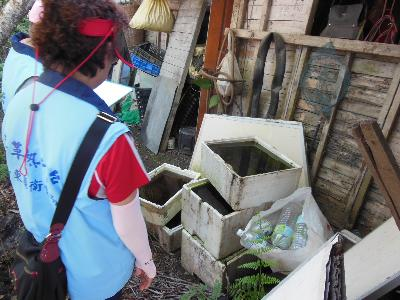bottle: (269, 204, 299, 252), (290, 202, 311, 253)
plastic_bag: (241, 185, 336, 275)
styrofoam: (200, 136, 303, 210), (182, 178, 273, 259), (179, 230, 260, 295), (136, 161, 202, 226)
